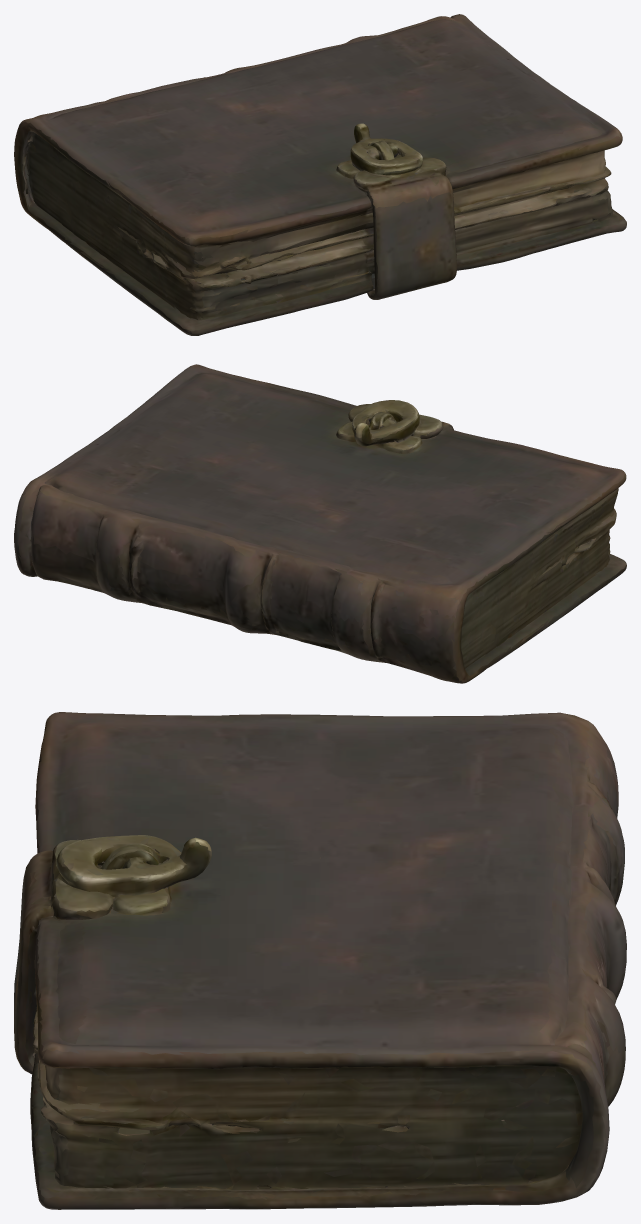
The model's file is obj_study_diary.glb.
3 views of the same model, one above another, from view 1: azimuth 30°, elevation 25°; view 2: azimuth 150°, elevation 25°; view 3: azimuth 270°, elevation 25° (orthographic). The views are drawn at different scales.
Visible parts, largest first — view 1: geometry_0; view 2: geometry_0; view 3: geometry_0.
Part boxes in pixels (bbox=[...]): geometry_0: bbox=[14, 14, 626, 335]; geometry_0: bbox=[14, 364, 626, 683]; geometry_0: bbox=[14, 712, 626, 1209].
Size of the model in its own units: 0.21 by 0.0599 by 0.1567.
1 material, 1 textured.
